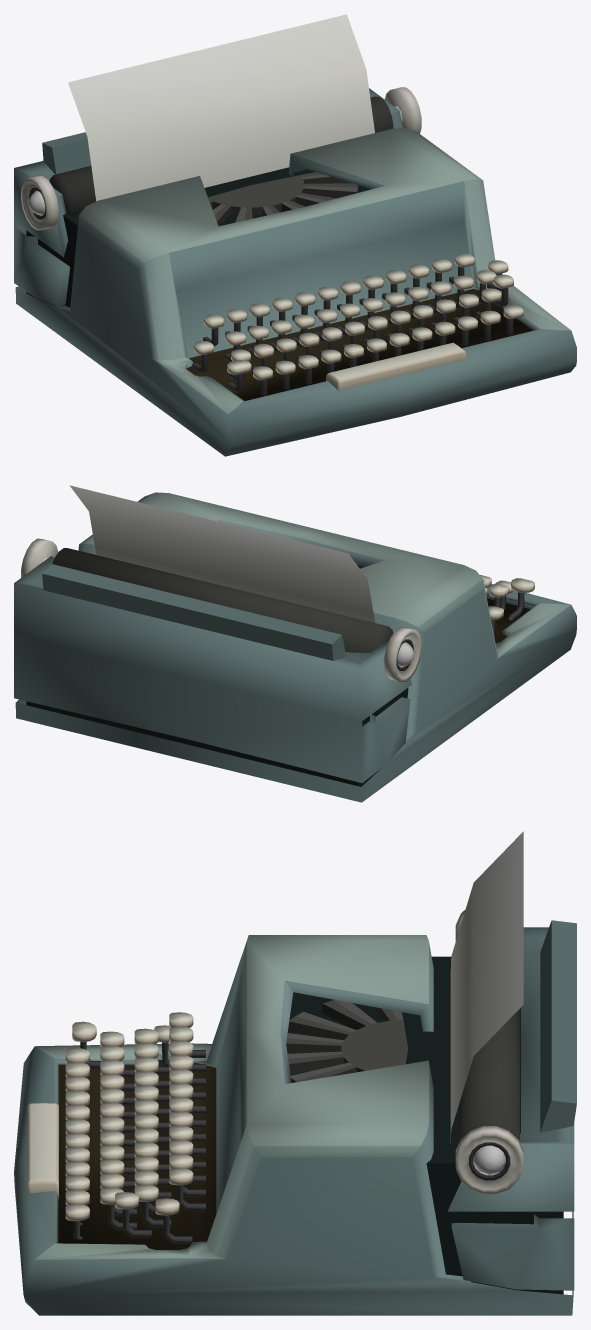
The model's file is typewriter-green.fbx.
3 views of the same model, one above another, from view 1: azimuth 30°, elevation 25°; view 2: azimuth 150°, elevation 25°; view 3: azimuth 270°, elevation 25° (orthographic). The views are drawn at different scales.
Parts seen in each view (by area): view 1: Paper.Green, Typewriter.Green; view 2: Paper.Green, Typewriter.Green; view 3: Paper.Green, Typewriter.Green.
Part boxes in pixels (x1,y1,x2,y2): Paper.Green: (14,87,576,456); Typewriter.Green: (68,14,374,200); Paper.Green: (14,492,576,802); Typewriter.Green: (69,485,375,622); Paper.Green: (14,909,576,1315); Typewriter.Green: (450,831,523,1142).
Bounding box in the file's own units: 53.89 × 30.62 × 53.9.
